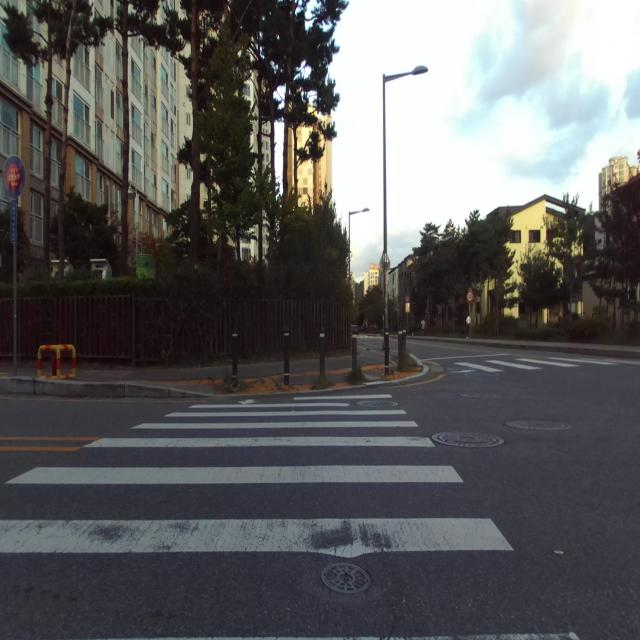횡단보도: (0, 393, 579, 640), (439, 351, 640, 377)
